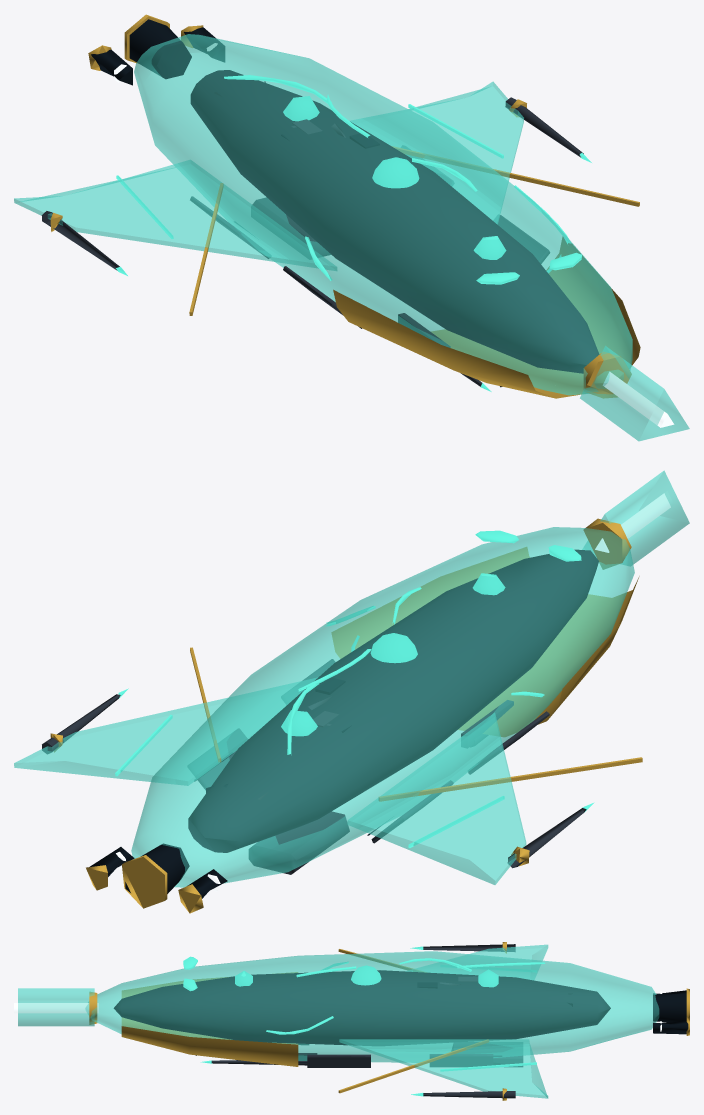
File: refleks-swietlisci-coalition-33-lod1.glb
The picture shows the model from 3 angles, top to bottom: view 1: azimuth 30°, elevation 25°; view 2: azimuth 150°, elevation 25°; view 3: azimuth 270°, elevation 25°; orthographic projection. The views are drawn at different scales.
Size of the model in its own units: 9.02 by 2.81 by 17.
